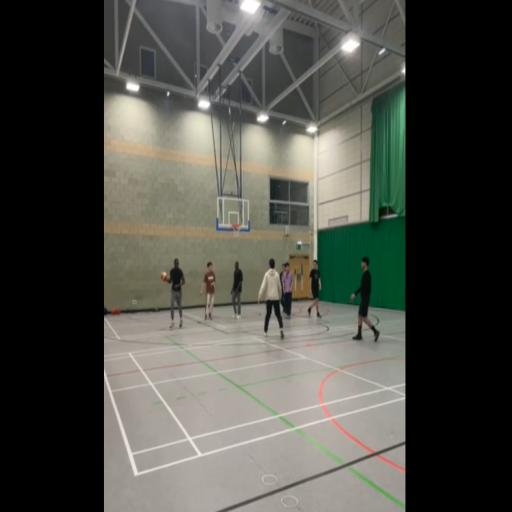hoops: (230, 217, 246, 243)
